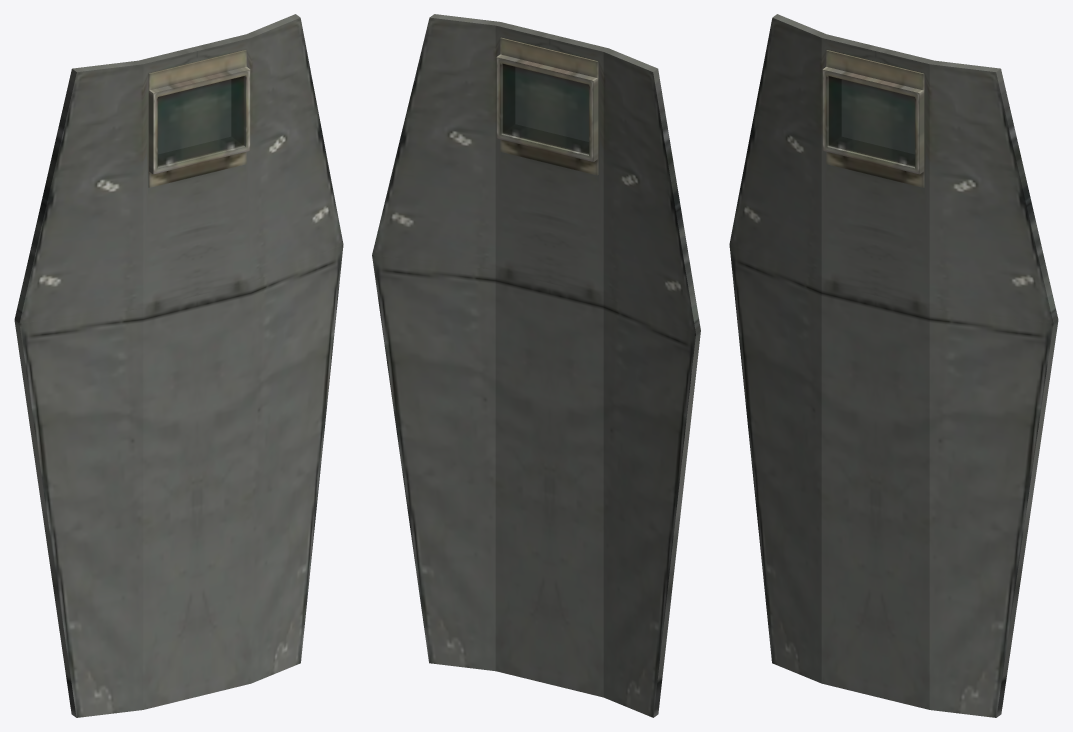
File: shield.gltf
3 views of the same model, side by side, from view 1: azimuth 30°, elevation 25°; view 2: azimuth 150°, elevation 25°; view 3: azimuth 330°, elevation 25° (orthographic).
Parts seen in each view (by area): view 1: Shield.001; view 2: Shield.001; view 3: Shield.001.
Boxes of the visible parts, x1,y1,x2,y2 form: Shield.001: (14, 14, 343, 717); Shield.001: (372, 14, 700, 717); Shield.001: (729, 14, 1058, 717).
Bounding box in the file's own units: 0.8669 × 1.65 × 0.1174.
Materials: 1 (1 with a texture image).
